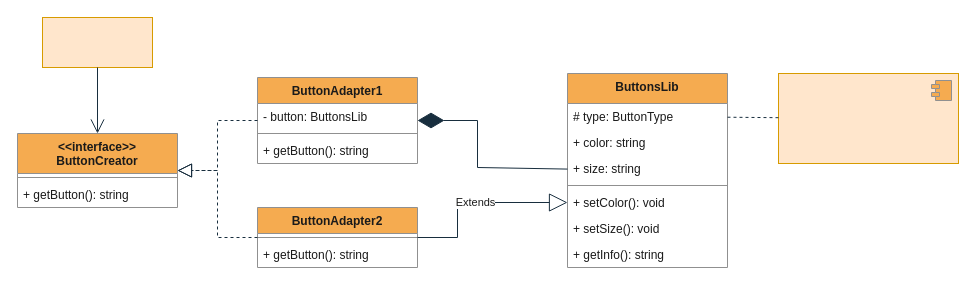
Some shapes in this 976 by 288 pixel diagram are drawn without their labels. Here are the shapes that lost their labels. From the top down, the centre of each, then its label:
At (97,42): "Client".
At (868,118): "«Annotation» ButtonType is Enum".
